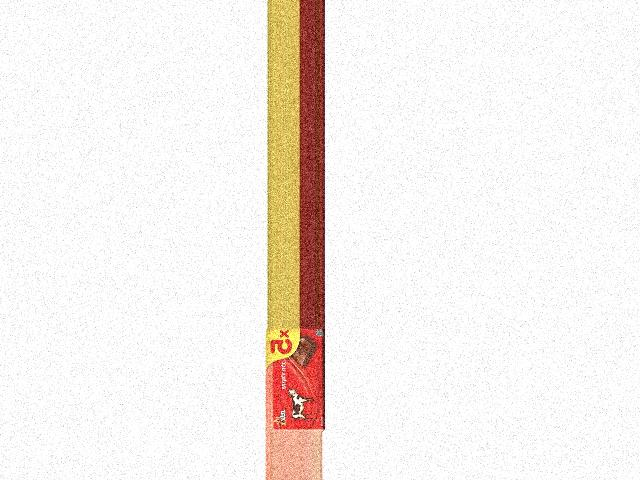chocolate: (263, 328, 324, 433)
